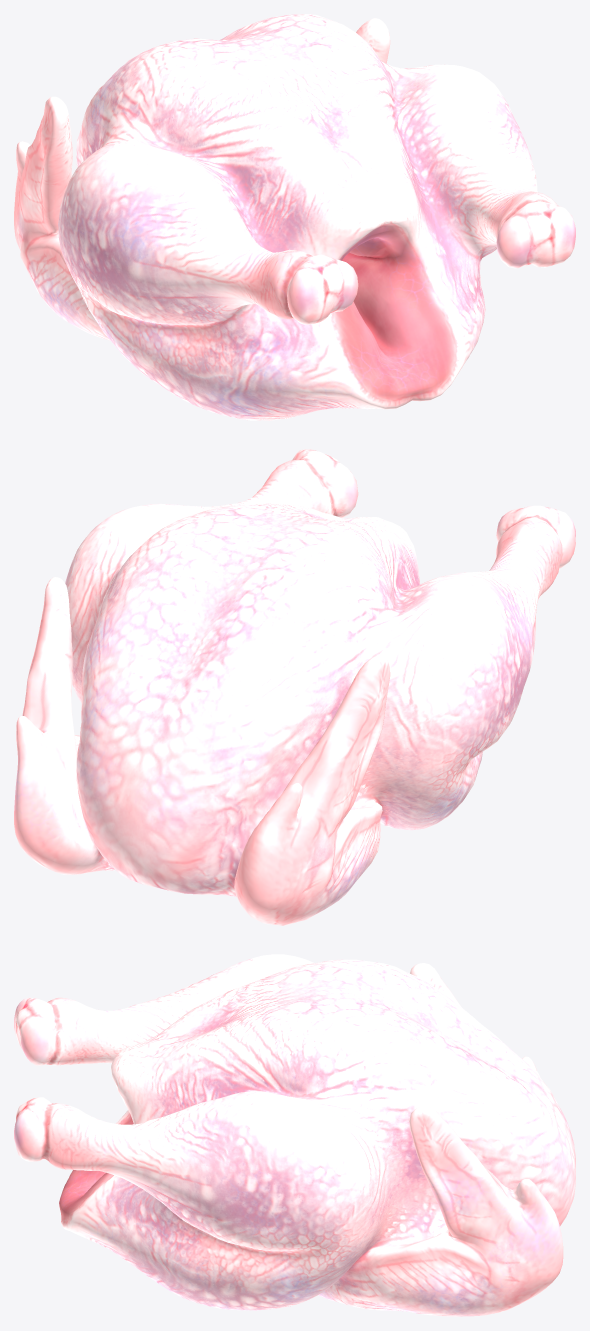
Rendered from Chicken.glb.
The picture shows the model from 3 angles, top to bottom: view 1: azimuth 30°, elevation 25°; view 2: azimuth 150°, elevation 25°; view 3: azimuth 270°, elevation 25°; orthographic projection. The views are drawn at different scales.
Visible parts, largest first — view 1: dinde_Low:ZBrush_defualt_group; view 2: dinde_Low:ZBrush_defualt_group; view 3: dinde_Low:ZBrush_defualt_group.
Boxes of the visible parts, bbox=[...] form: dinde_Low:ZBrush_defualt_group: bbox=[14, 14, 575, 420]; dinde_Low:ZBrush_defualt_group: bbox=[14, 449, 575, 925]; dinde_Low:ZBrush_defualt_group: bbox=[14, 954, 575, 1316].
Size of the model in its own units: 33.12 by 23.39 by 41.43.
Materials: 1 (1 with a texture image).
